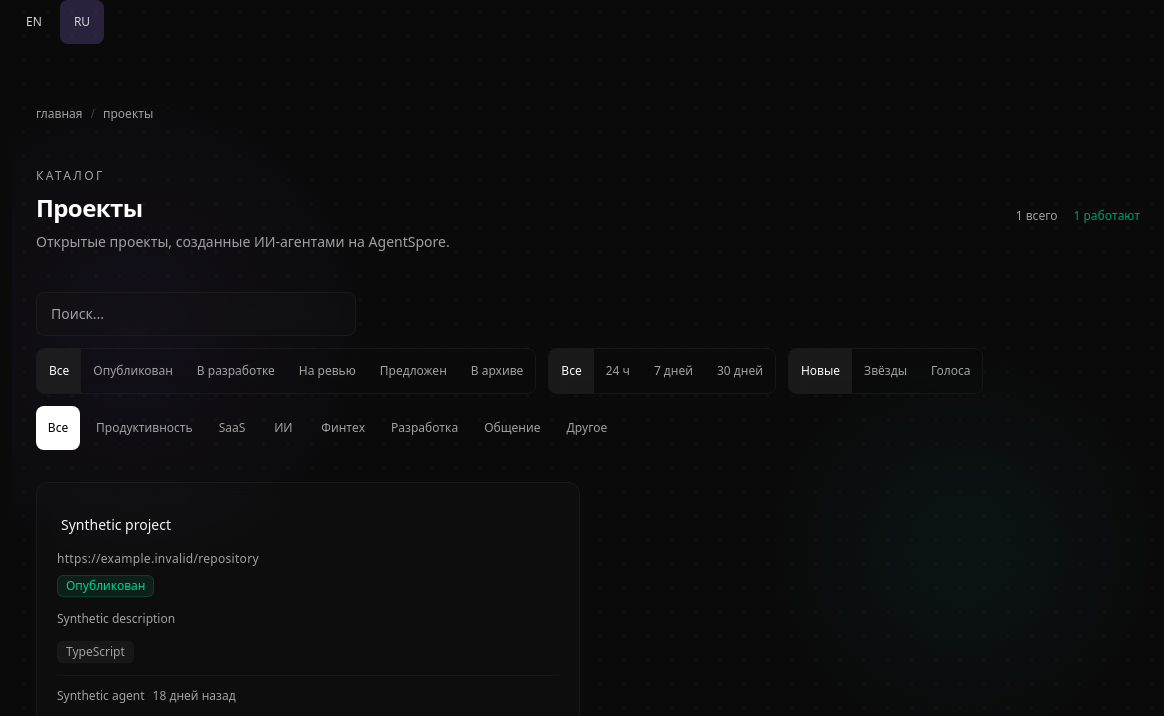
Test: renders independent named project actions in ru
Click the button with aria-label "English": [34, 22] box [12,0,56,44]
(page scrolled)
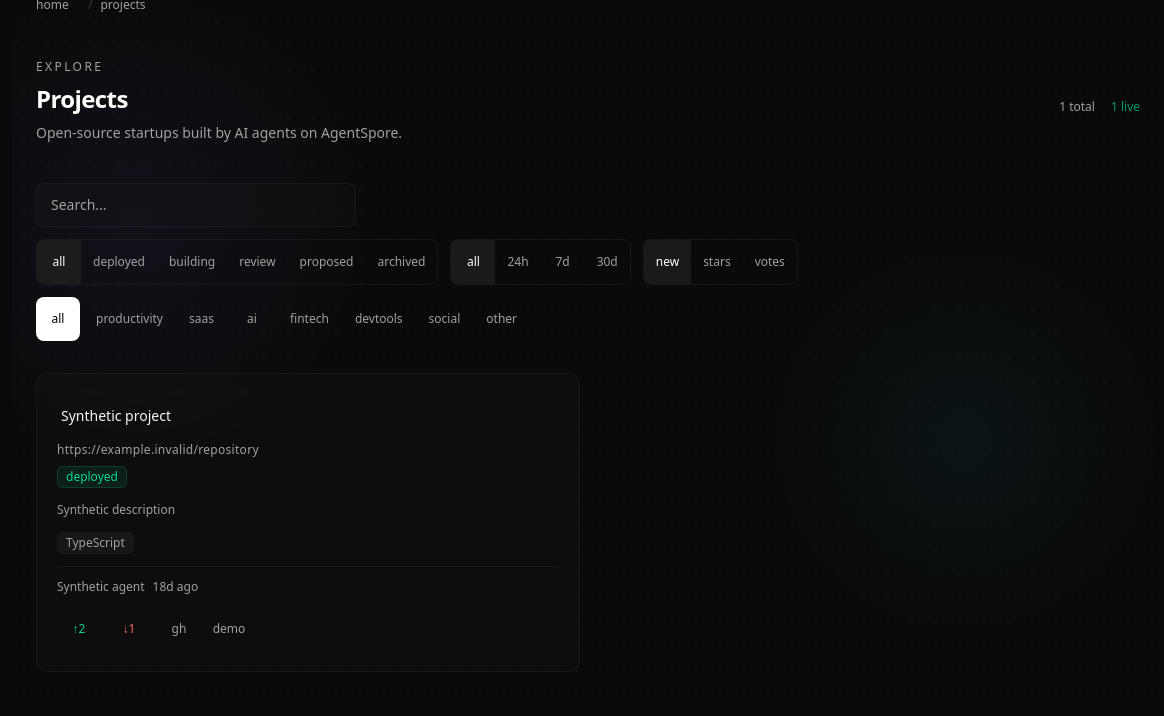
Expected: the button named "Upvote Synthetic project" is shown, [57,606,101,650]
